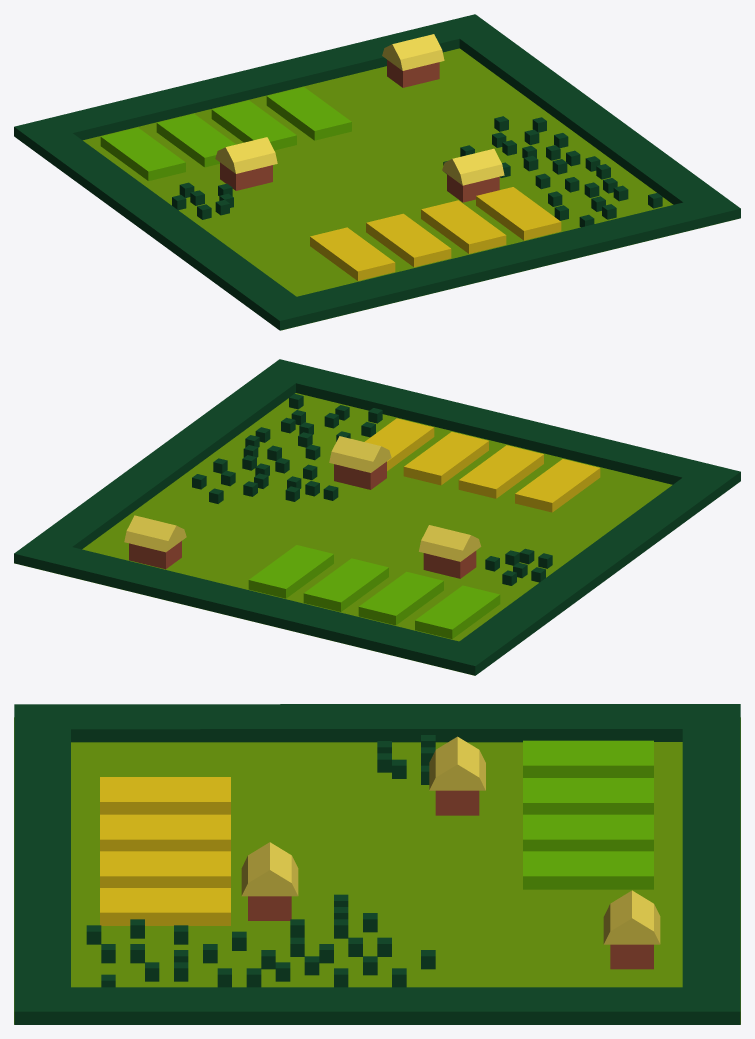
Rendered from farm.glb.
3 views of the same model, one above another, from view 1: azimuth 30°, elevation 25°; view 2: azimuth 150°, elevation 25°; view 3: azimuth 270°, elevation 25° (orthographic). The views are drawn at different scales.
Visible parts, largest first — view 1: ground, Hedge, wheat4, wheat3, Corn1, wheat1, wheat2, Corn4, barn.003, barn.001, barn.002, Corn3 (+1 smaller); view 2: Hedge, ground, wheat1, Corn1, Corn2, Corn4, wheat4, Corn3, wheat2, barn.001, barn.002, barn.003 (+1 smaller); view 3: ground, Hedge, Corn4, wheat1, wheat2, Corn1, Corn3, wheat3, wheat4, Corn2, barn.003, barn.001 (+1 smaller).
Part boxes in pixels (box(x1,y1,x2,y2)): ground: box(83, 48, 733, 330); Hedge: box(14, 14, 740, 330); wheat4: box(421, 200, 506, 253); wheat3: box(476, 187, 561, 240); Corn1: box(100, 127, 185, 180); wheat1: box(310, 227, 395, 280); wheat2: box(366, 213, 451, 267); Corn4: box(266, 87, 351, 140); barn.003: box(382, 34, 444, 87); barn.001: box(215, 137, 277, 190); barn.002: box(442, 148, 504, 202); Corn3: box(211, 100, 296, 150); Hedge: box(14, 359, 740, 675); ground: box(14, 393, 672, 675); wheat1: box(515, 459, 600, 512); Corn1: box(415, 585, 500, 638); Corn2: box(358, 571, 443, 625); Corn4: box(248, 545, 333, 598); wheat4: box(403, 432, 488, 485); Corn3: box(303, 558, 388, 611); wheat2: box(458, 445, 543, 498); barn.001: box(419, 525, 481, 578); barn.002: box(329, 436, 391, 489); barn.003: box(124, 515, 186, 569); ground: box(14, 717, 740, 1024); Hedge: box(14, 704, 740, 1024); Corn4: box(523, 851, 653, 889); wheat1: box(100, 777, 230, 814); wheat2: box(100, 814, 230, 851); Corn1: box(523, 740, 653, 777); Corn3: box(523, 814, 653, 851); wheat3: box(100, 888, 230, 925); wheat4: box(100, 851, 230, 887); Corn2: box(523, 778, 653, 814); barn.003: box(603, 890, 660, 969); barn.001: box(429, 736, 485, 815).
Size of the model in its own units: 100 by 8.01 by 100.
